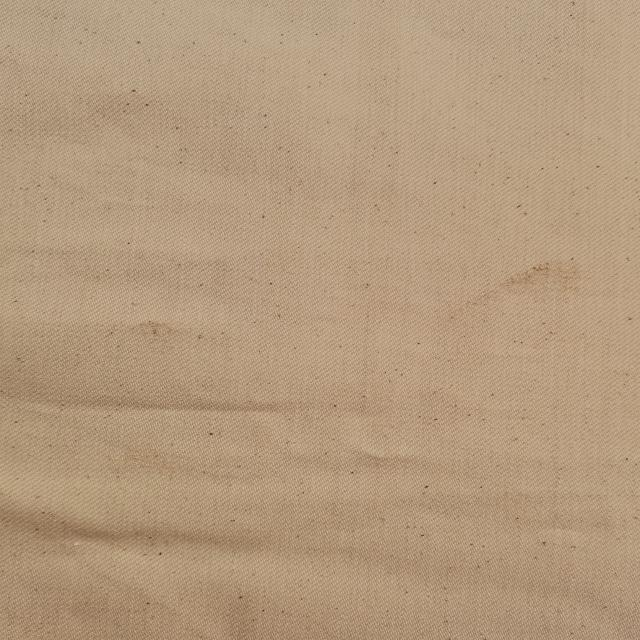taaaches: (466, 248, 596, 320), (123, 317, 178, 341)
